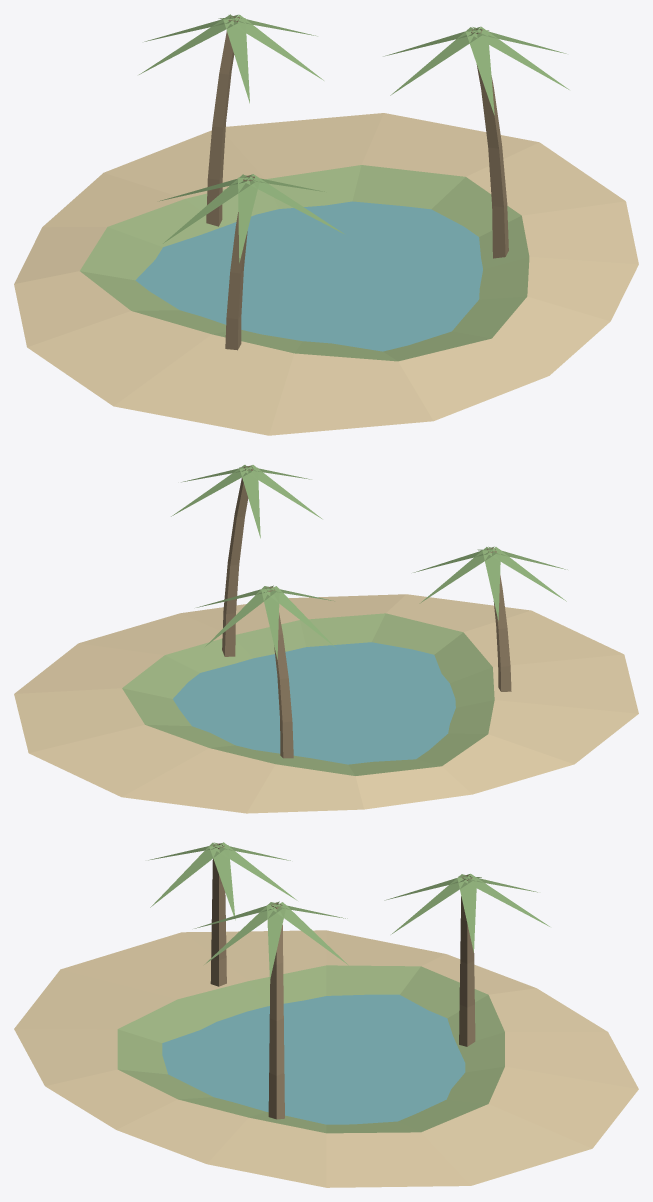
Rendered from desert_Oasis.fbx.
The picture shows the model from 3 angles, top to bottom: view 1: azimuth 30°, elevation 25°; view 2: azimuth 150°, elevation 25°; view 3: azimuth 270°, elevation 25°; orthographic projection. The views are drawn at different scales.
Parts seen in each view (by area): view 1: Oasis; view 2: Oasis; view 3: Oasis.
Boxes of the visible parts, x1,y1,x2,y2 form: Oasis: (14, 14, 638, 435); Oasis: (14, 465, 638, 813); Oasis: (14, 842, 638, 1187).
Bounding box in the file's own units: 7.36 × 2.85 × 7.55.
